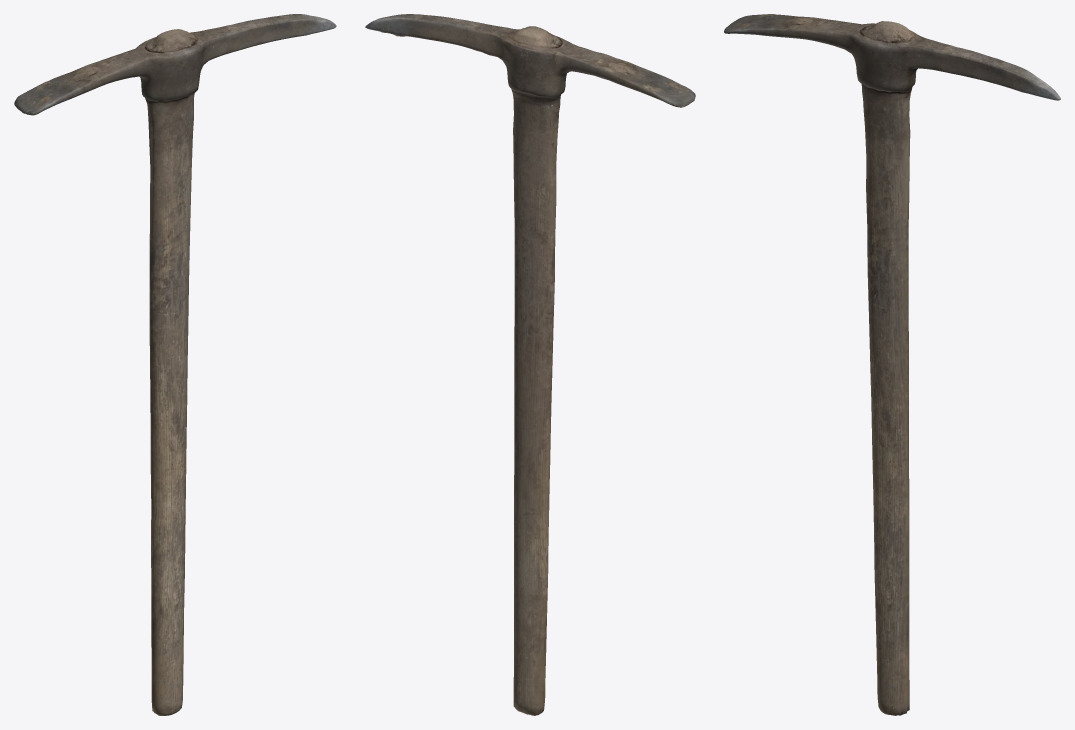
File: picke_dirty_01.gltf
The picture shows the model from 3 angles, left to right: view 1: azimuth 30°, elevation 25°; view 2: azimuth 150°, elevation 25°; view 3: azimuth 330°, elevation 25°; orthographic projection.
Parts seen in each view (by area): view 1: picke_dirty_01; view 2: picke_dirty_01; view 3: picke_dirty_01.
Boxes of the visible parts, x1,y1,x2,y2 form: picke_dirty_01: [14, 14, 336, 715]; picke_dirty_01: [365, 14, 695, 715]; picke_dirty_01: [724, 14, 1060, 715].
Bounding box in the file's own units: 0.5498 × 1.12 × 0.069.
Materials: 1 (1 with a texture image).
